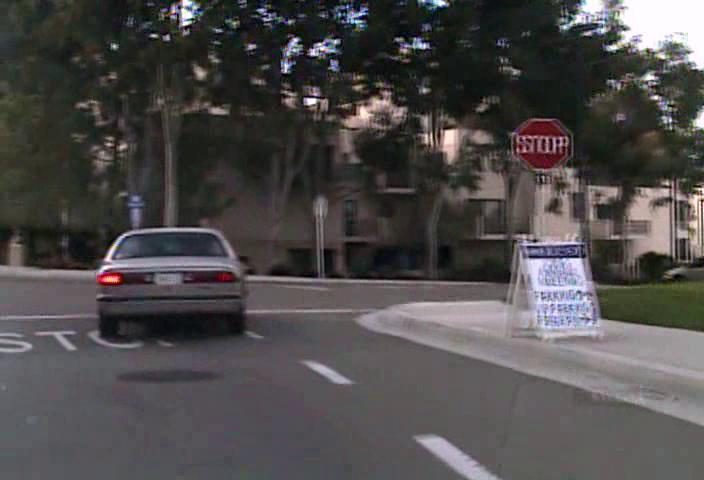stop: (511, 117, 573, 171)
